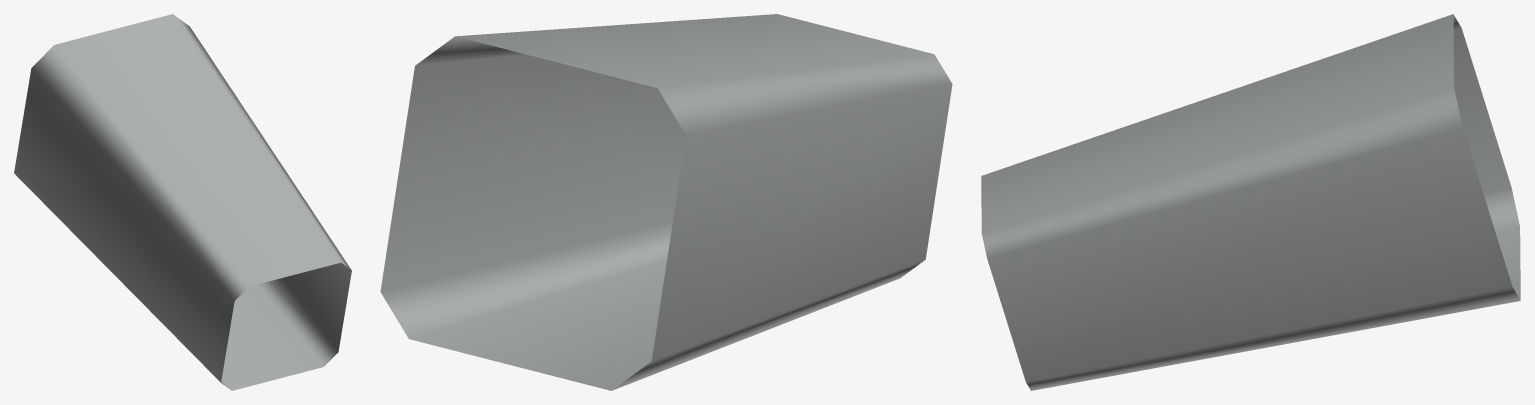
Rendered from Drone_002_R_Finger_003.fbx.
The picture shows the model from 3 angles, left to right: view 1: azimuth 30°, elevation 25°; view 2: azimuth 150°, elevation 25°; view 3: azimuth 270°, elevation 25°; orthographic projection. The views are drawn at different scales.
Parts seen in each view (by area): view 1: Drone_002_R_Finger_003; view 2: Drone_002_R_Finger_003; view 3: Drone_002_R_Finger_003.
Boxes of the visible parts, bbox=[...] form: Drone_002_R_Finger_003: bbox=[14, 14, 351, 390]; Drone_002_R_Finger_003: bbox=[380, 14, 952, 390]; Drone_002_R_Finger_003: bbox=[981, 14, 1520, 390].
Size of the model in its own units: 1.78 by 3.93 by 2.49.
